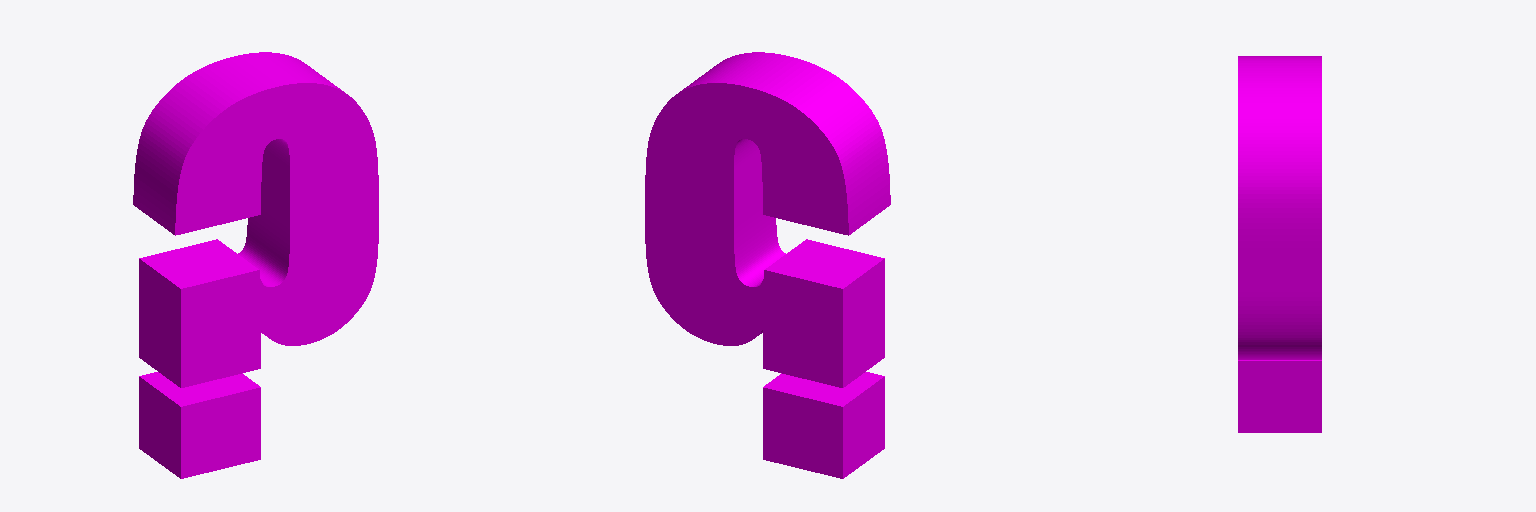
The model's file is missing.obj.
The picture shows the model from 3 angles: view 1: azimuth 30°, elevation 25°; view 2: azimuth 150°, elevation 25°; view 3: azimuth 270°, elevation 25°; orthographic projection.
Visible parts, largest first — view 1: Text; view 2: Text; view 3: Text.
Part boxes in pixels (bbox=[...]): Text: bbox=[133, 52, 378, 478]; Text: bbox=[645, 52, 890, 478]; Text: bbox=[1238, 56, 1321, 432].
Size of the model in its own units: 0.5604 by 0.9709 by 0.2.